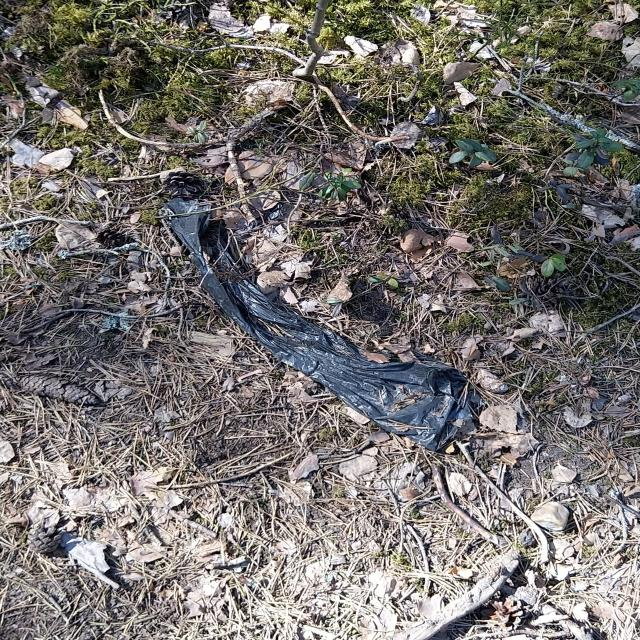litter: (159, 174, 482, 454)
